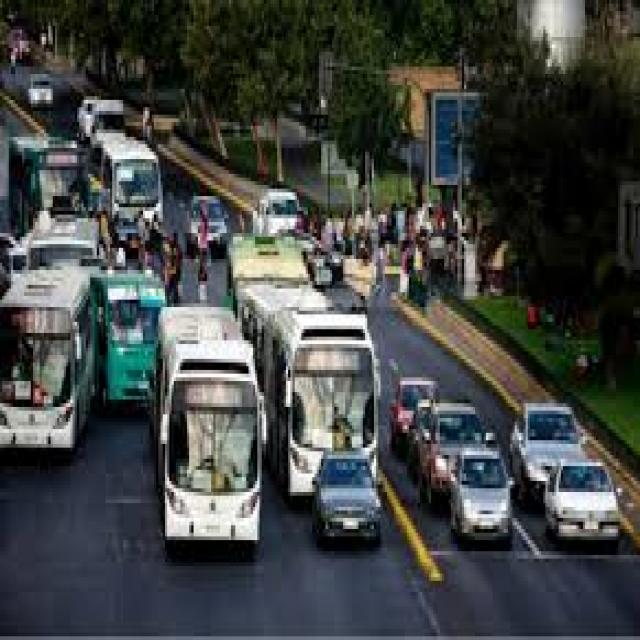AB: (233, 277, 383, 518)
